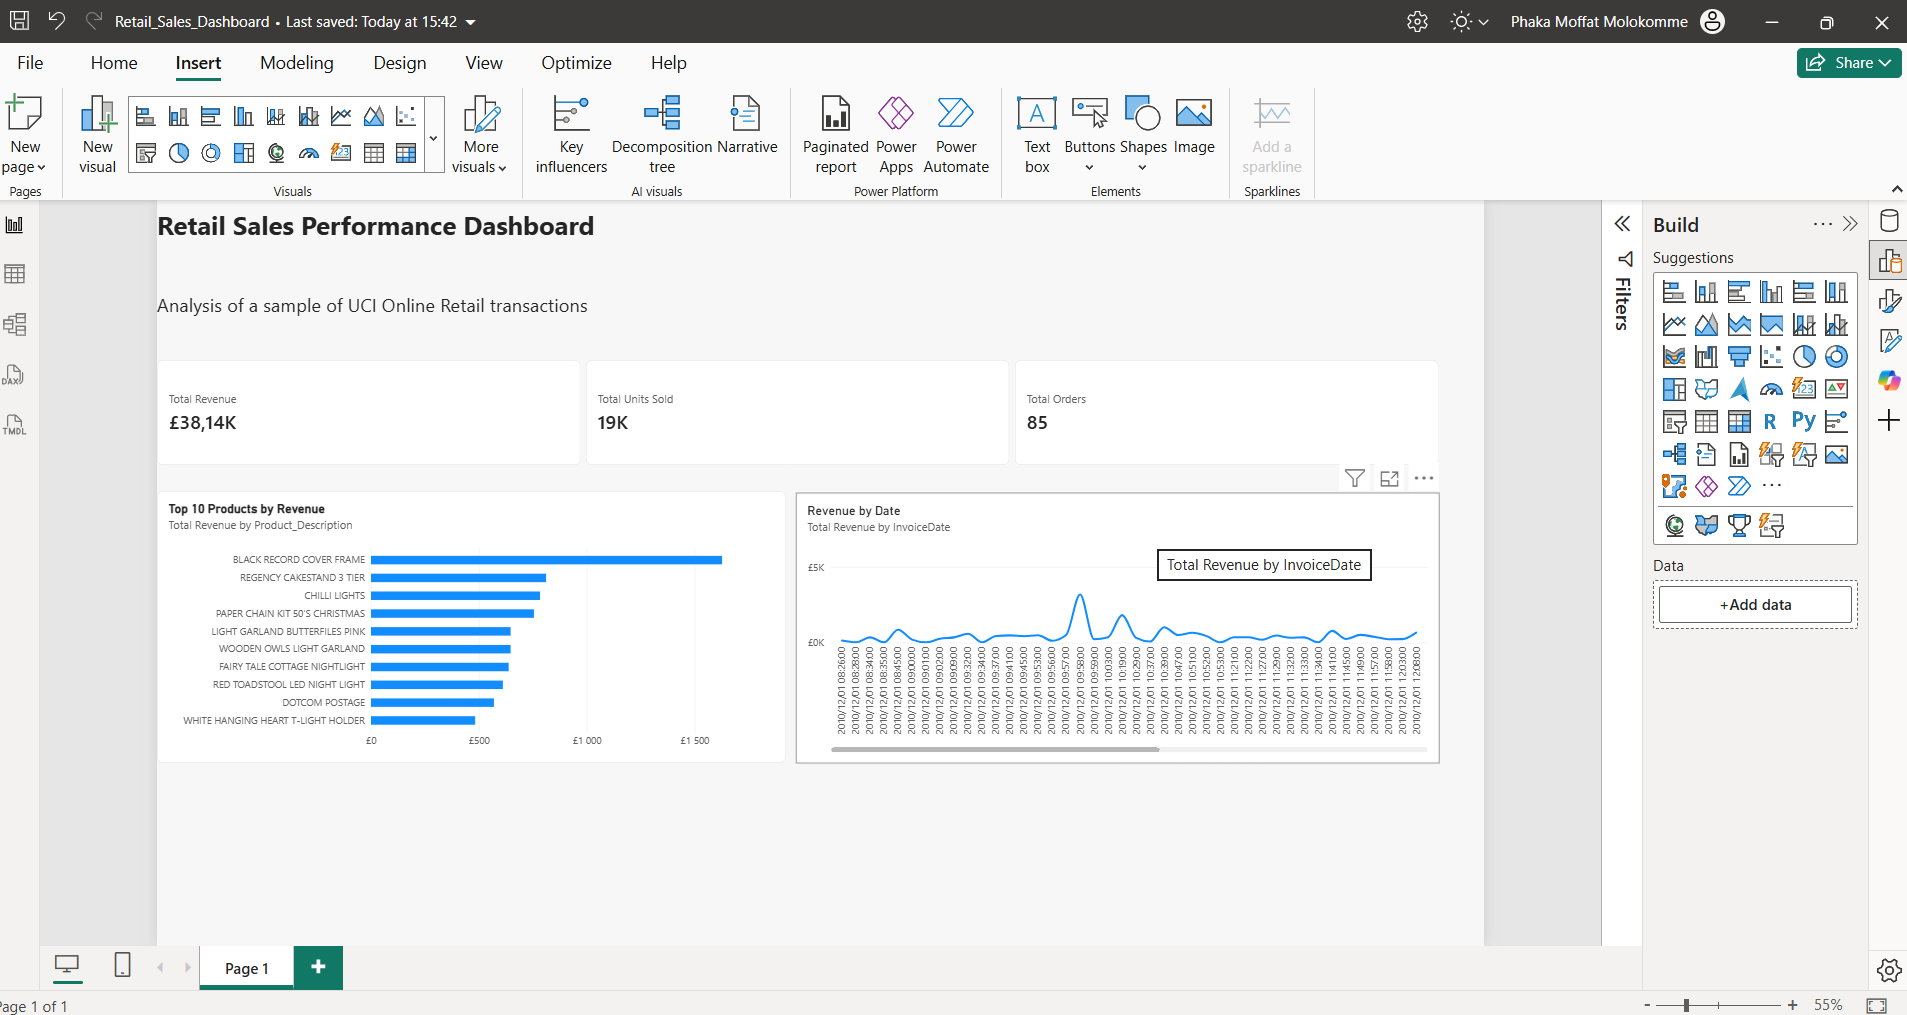

Layout of this report page (visuals, bound fields, positions):
{"tool":"powerbi","page":{"name":"Page 1","canvas":[1920,1080],"ordinal":0},"visuals":[{"type":"cardVisual","fields":{"Data":["retail_sales_clean.Total Revenue","retail_sales_clean.Total Units Sold","retail_sales_clean.Total Orders"]},"box":[0,386.1,1710.2,151.4],"z":0},{"type":"clusteredBarChart","title":"Top 10 Products by Revenue","fields":{"Category":["retail_sales_clean.Product_Description"],"Y":["retail_sales_clean.Total Revenue"]},"box":[0,538.5,797,393.2],"z":1000},{"type":"lineChart","title":"Revenue by Date","fields":{"Category":["retail_sales_clean.InvoiceDate"],"Y":["retail_sales_clean.Total Revenue"]},"box":[899.8,538.5,931.7,393.2],"z":2000},{"type":"textbox","box":[0,10,1710,151],"z":2001},{"type":"textbox","box":[0,188,1710,151],"z":2002}]}

Visuals, with their boxes on the page's 1920x1080 design canvas (x1, y1, x2, y2). These are canvas units, not pixel positions in the 1907x1015 screenshot, which may show the page scaled, cropped or inside an application window:
cardVisual - retail_sales_clean.Total Revenue x retail_sales_clean.Total Units Sold: (0,386,1710,538)
"Top 10 Products by Revenue" clusteredBarChart: (0,538,797,932)
"Revenue by Date" lineChart: (900,538,1832,932)
textbox: (0,10,1710,161)
textbox: (0,188,1710,339)
